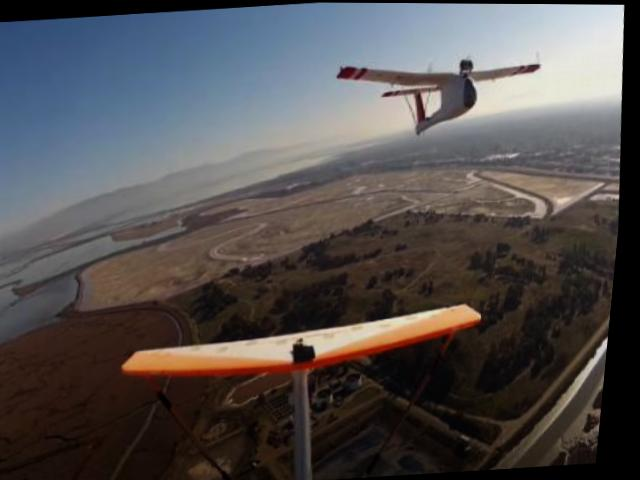uav: (325, 35, 554, 150)
